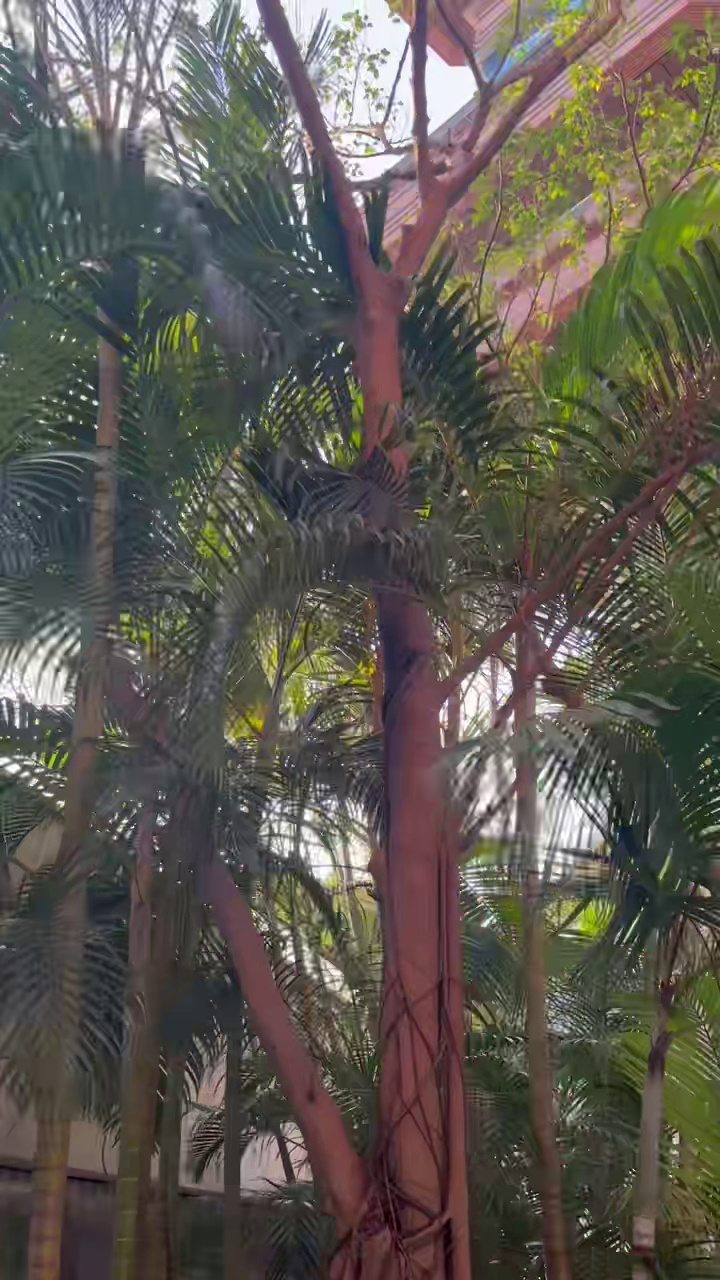Ficus benjamina: (207, 0, 618, 1279)
